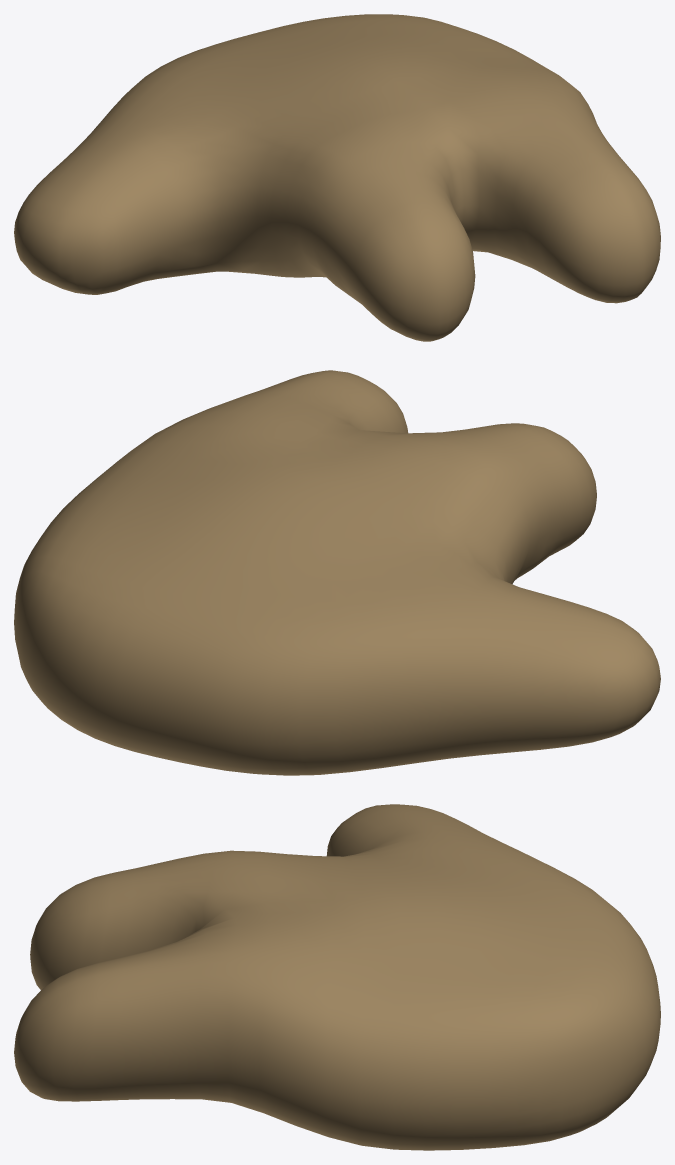
File: left-hand.fbx
3 renders of one model, top to bottom at view 1: azimuth 30°, elevation 25°; view 2: azimuth 150°, elevation 25°; view 3: azimuth 270°, elevation 25°, orthographic. The views are drawn at different scales.
Parts seen in each view (by area): view 1: Left Hand; view 2: Left Hand; view 3: Left Hand.
Part boxes in pixels (<box>): Left Hand: <box>14,14,660,341</box>; Left Hand: <box>14,370,660,775</box>; Left Hand: <box>14,804,660,1150</box>.
Size of the model in its own units: 15.99 by 5.25 by 15.84.
